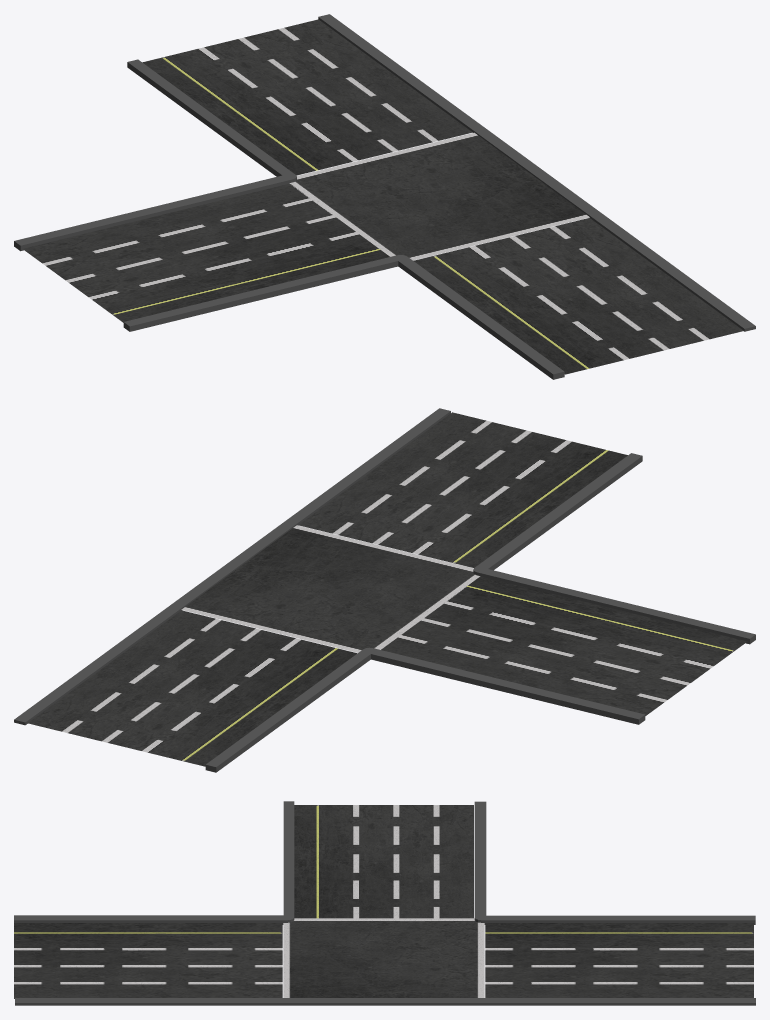
Rendered from 4-Lane_Three-way-intersection_RIGHT.fbx.
The picture shows the model from 3 angles, top to bottom: view 1: azimuth 30°, elevation 25°; view 2: azimuth 150°, elevation 25°; view 3: azimuth 270°, elevation 25°; orthographic projection. The views are drawn at different scales.
Visible parts, largest first — view 1: polySurface18, polySurface16, polySurface17, polySurface15, pCube12, pCube14, pCube13; view 2: polySurface16, polySurface18, polySurface17, polySurface15, pCube13, pCube14, pCube12; view 3: polySurface17, polySurface18, polySurface16, polySurface15, pCube14, pCube13, pCube12.
Part boxes in pixels (<box>): polySurface18: <box>413,218,743,374</box>; polySurface16: <box>142,19,472,175</box>; polySurface17: <box>23,183,389,322</box>; polySurface15: <box>289,132,589,260</box>; pCube12: <box>123,255,564,379</box>; pCube14: <box>318,14,755,331</box>; pCube13: <box>14,59,296,251</box>; polySurface16: <box>28,610,356,766</box>; polySurface18: <box>298,412,627,567</box>; polySurface17: <box>381,576,747,715</box>; polySurface15: <box>181,525,480,652</box>; pCube13: <box>205,647,645,772</box>; pCube14: <box>14,408,450,725</box>; pCube12: <box>473,453,755,644</box>; polySurface17: <box>294,805,473,918</box>; polySurface18: <box>14,923,282,998</box>; polySurface16: <box>485,923,753,997</box>; polySurface15: <box>283,918,484,997</box>; pCube14: <box>15,998,755,1005</box>; pCube13: <box>474,801,755,924</box>; pCube12: <box>14,801,294,924</box>.
Bounding box in the file's own units: 168 × 1.88 × 263.
Materials: 3 (2 with a texture image).
